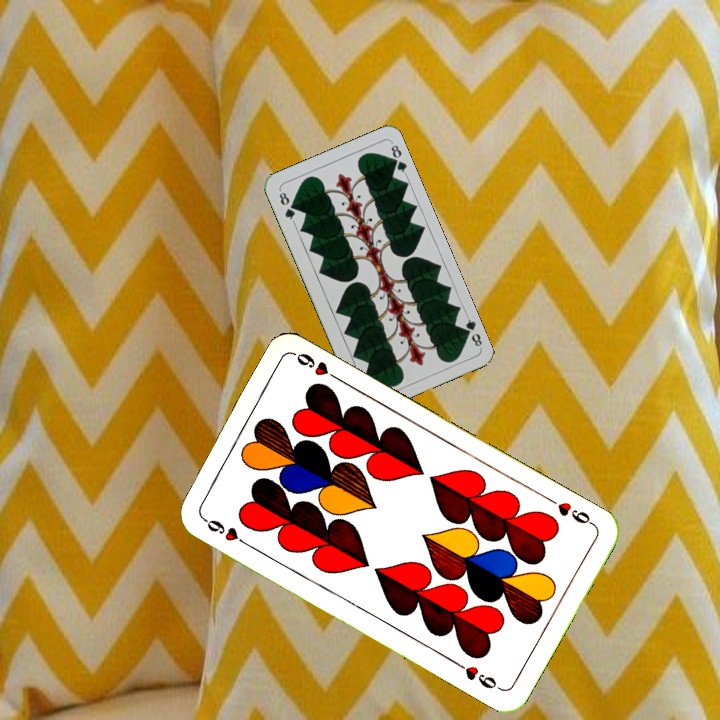G8: (458, 311, 485, 350), (275, 186, 298, 225)
H9: (543, 493, 597, 529), (198, 513, 252, 549)
